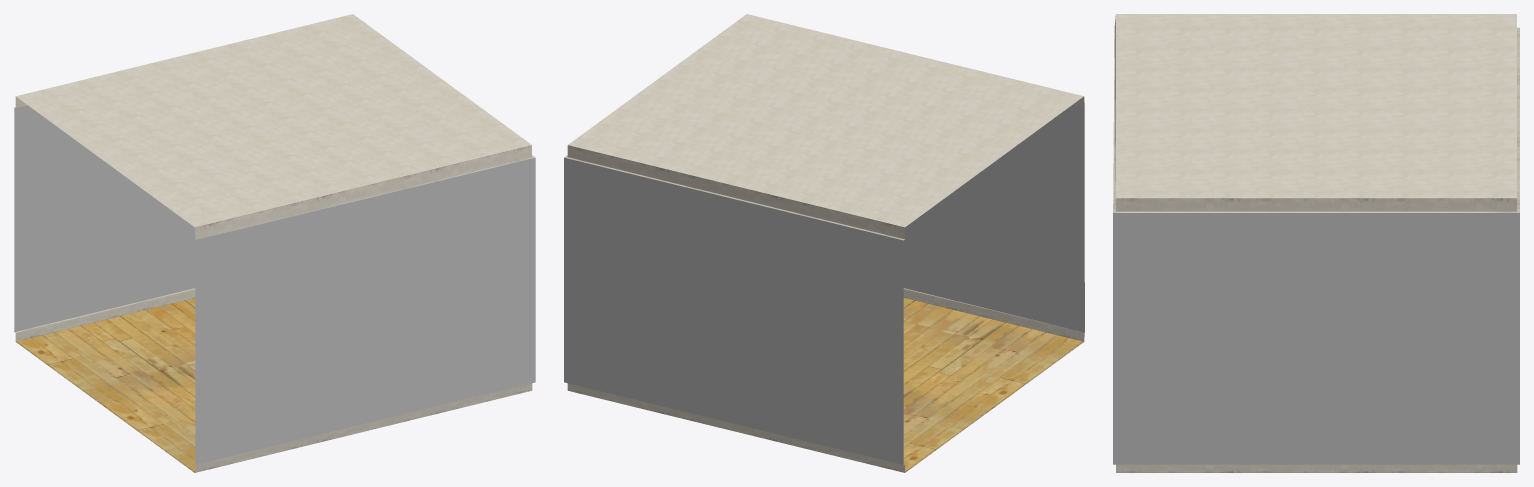
The model's file is dresss.fbx.
3 views of the same model, side by side, from view 1: azimuth 30°, elevation 25°; view 2: azimuth 150°, elevation 25°; view 3: azimuth 270°, elevation 25° (orthographic). The views are drawn at different scales.
Visible parts, largest first — view 1: room; view 2: room; view 3: room.
Part boxes in pixels (left/top/right/bottom): room: left=14, top=14, right=535, bottom=472; room: left=564, top=14, right=1084, bottom=472; room: left=1113, top=14, right=1519, bottom=472.
Size of the model in its own units: 457 by 316 by 424.
